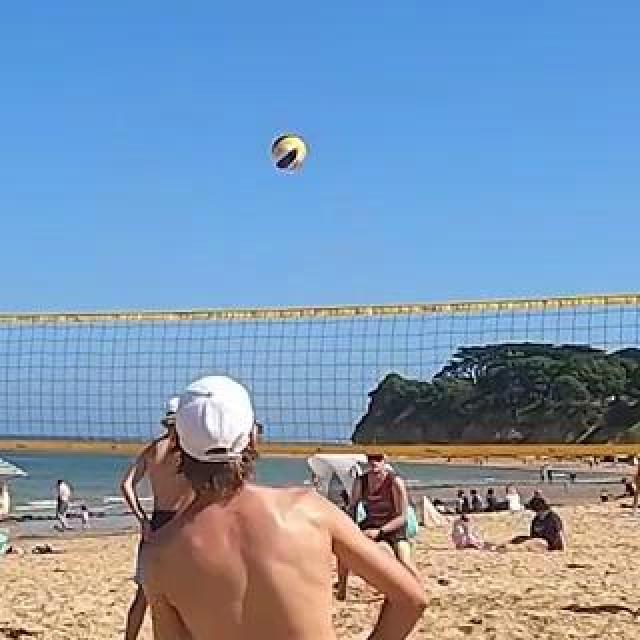volleyball: (273, 136, 307, 170)
